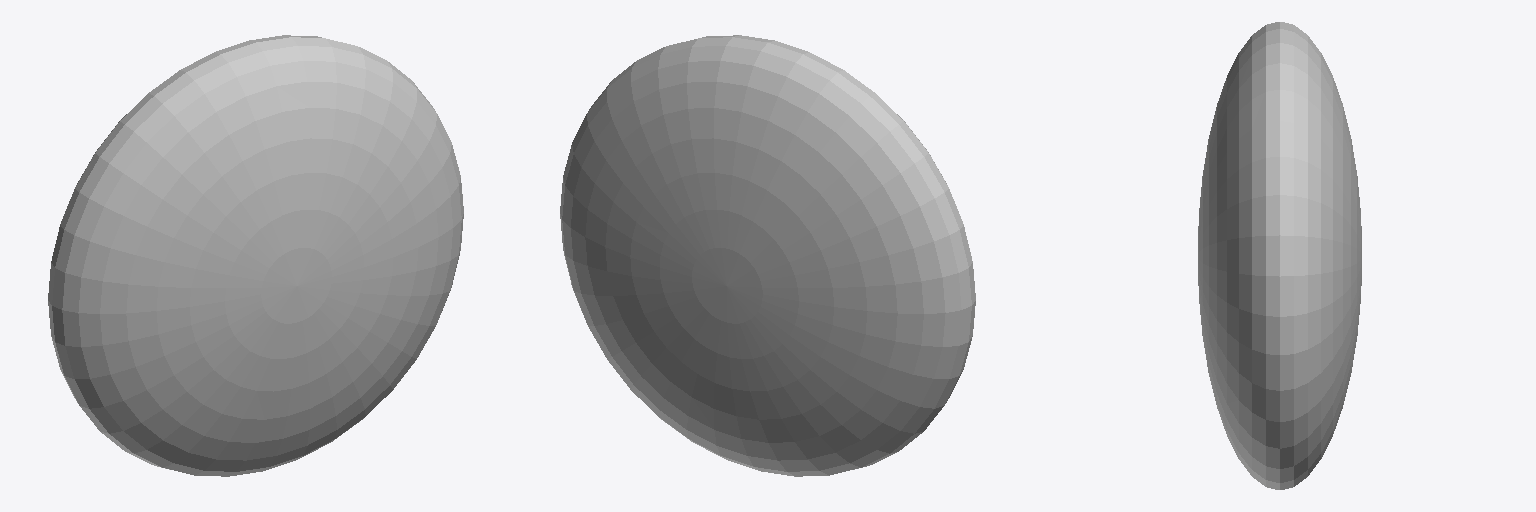
Rendered from cuscino.obj.
3 views of the same model, side by side, from view 1: azimuth 30°, elevation 25°; view 2: azimuth 150°, elevation 25°; view 3: azimuth 270°, elevation 25° (orthographic).
Parts seen in each view (by area): view 1: obj_0; view 2: obj_0; view 3: obj_0.
Boxes of the visible parts, x1=… form: obj_0: x1=48, y1=35, x2=463, y2=476; obj_0: x1=560, y1=35, x2=975, y2=476; obj_0: x1=1198, y1=22, x2=1361, y2=489.
Bounding box in the file's own units: 20 × 20 × 7.